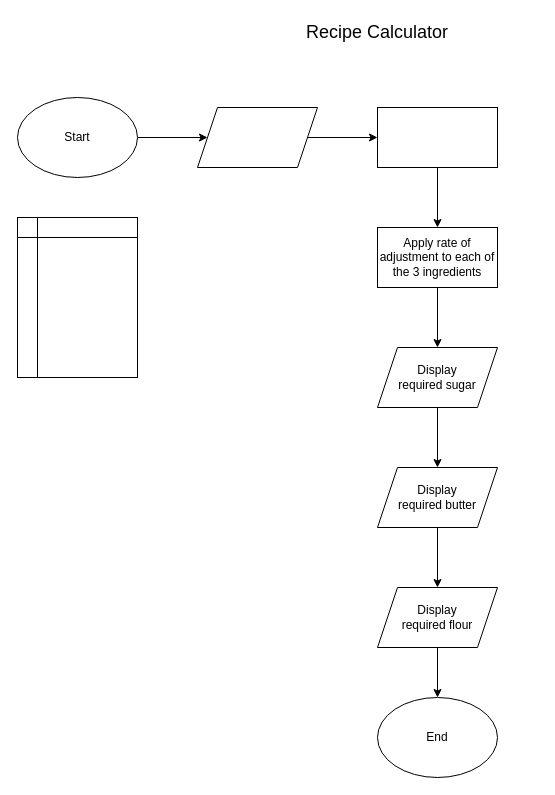
This 555x795 diagram has some shape labels left out. The box of each missing label's shape, as (x1, y1, x2, y2) in pixels:
Cups sugar = 1.5 Cups butter = 1.0 Cups flour = 2.75 Base cookies = 48: (16, 216, 138, 378)
Divide desired cookies by base cookies to get rate of adjustment: (376, 106, 498, 168)
Input desired cookies: (196, 106, 318, 168)
